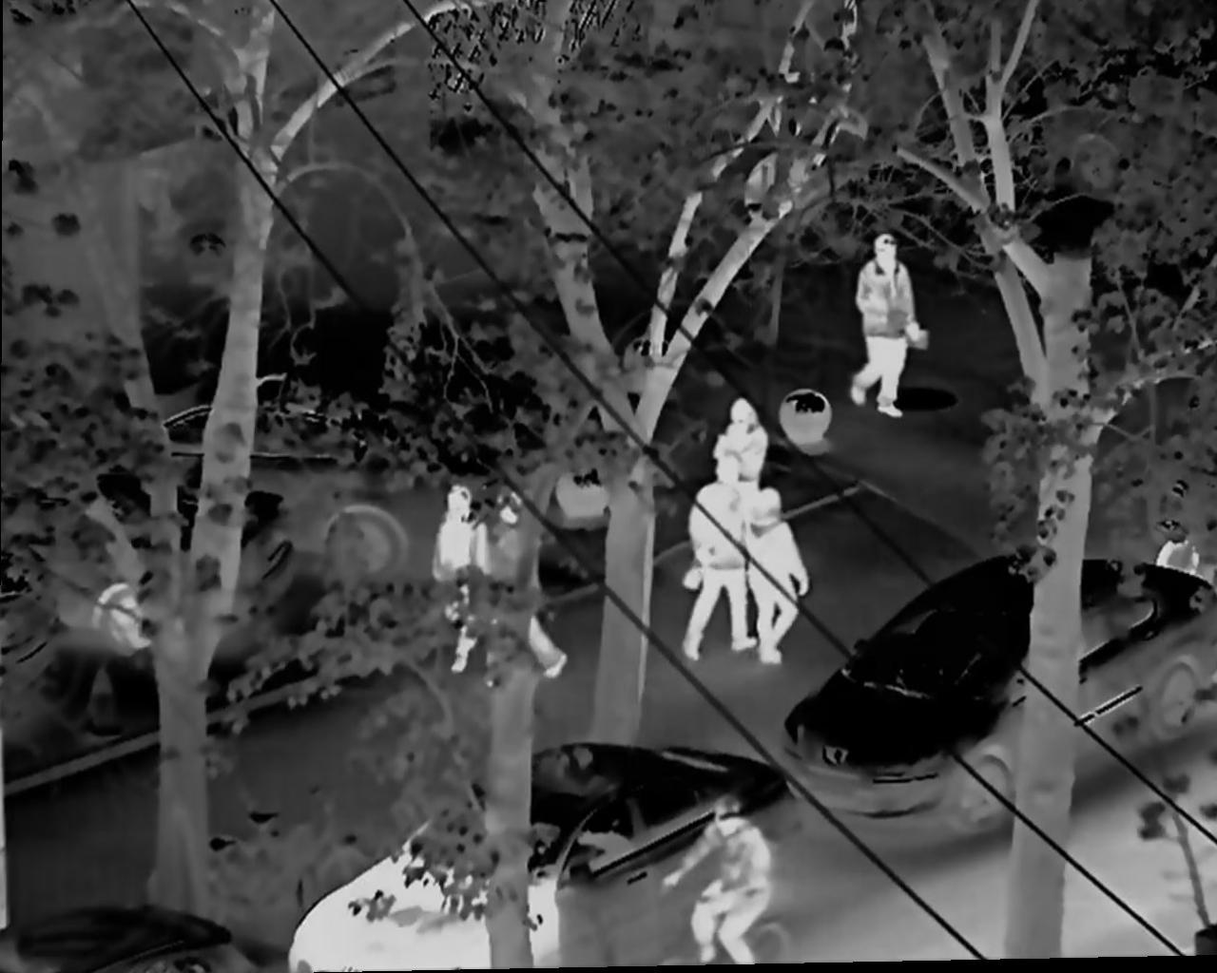person: (661, 792, 780, 973), (424, 484, 514, 678), (486, 488, 570, 694), (850, 230, 925, 428), (682, 450, 754, 656), (746, 482, 820, 675), (704, 399, 772, 507)
